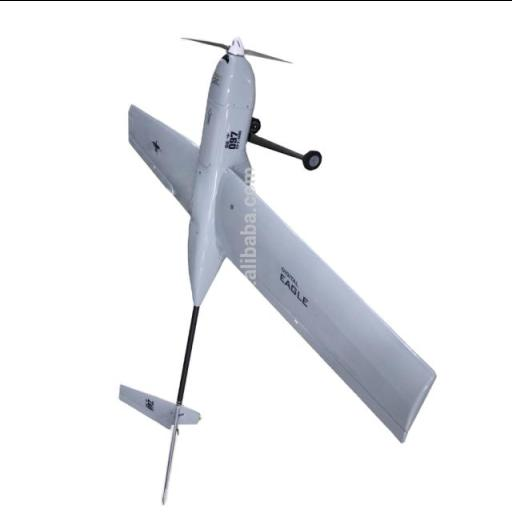uav: (116, 18, 438, 507)
